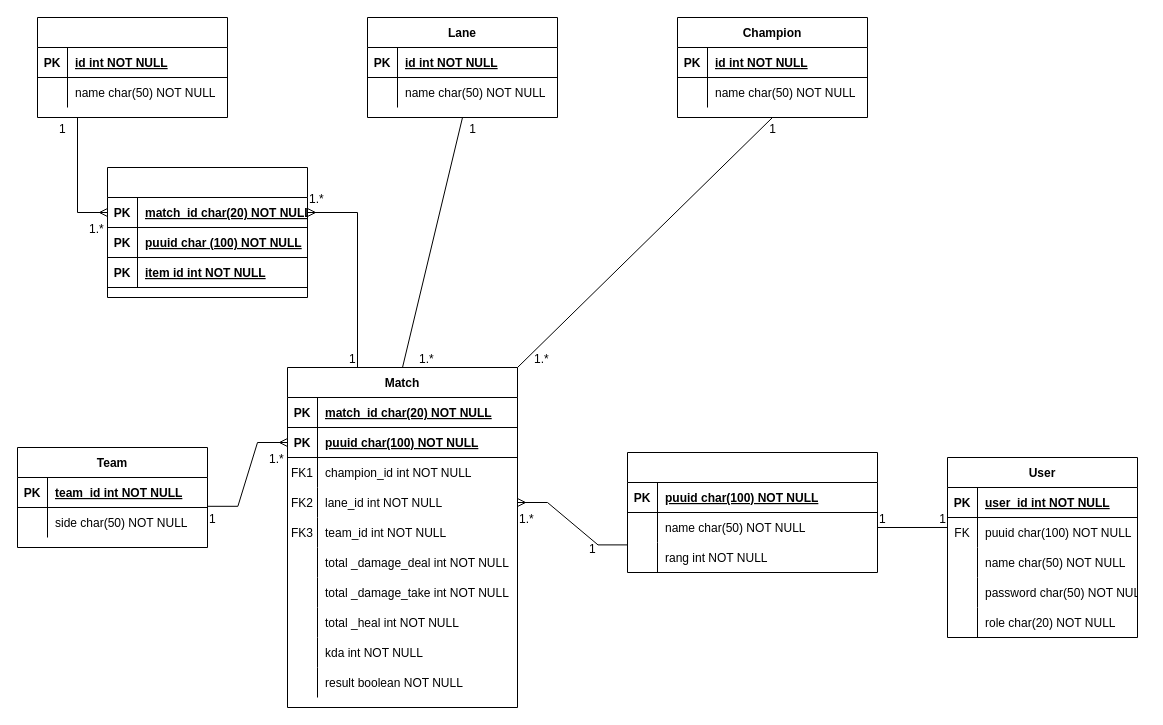
This 1163x725 diagram has some shape labels left out. The shapes that lost their labels are listed below. From the top down, each one's box as (x1, y1, x2, y2) in pixels, then its label:
(36, 16, 228, 118): Item
(106, 166, 308, 298): ItemMatch
(626, 452, 878, 572): Joueur
